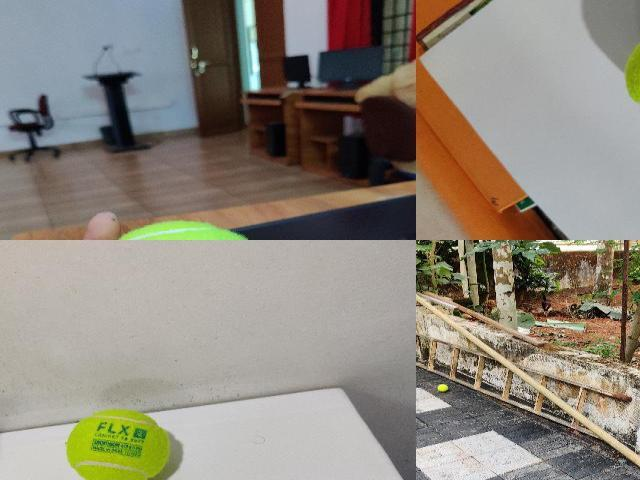tennis-ball: (64, 409, 171, 479), (119, 221, 248, 240), (625, 43, 639, 105), (437, 384, 448, 392)
